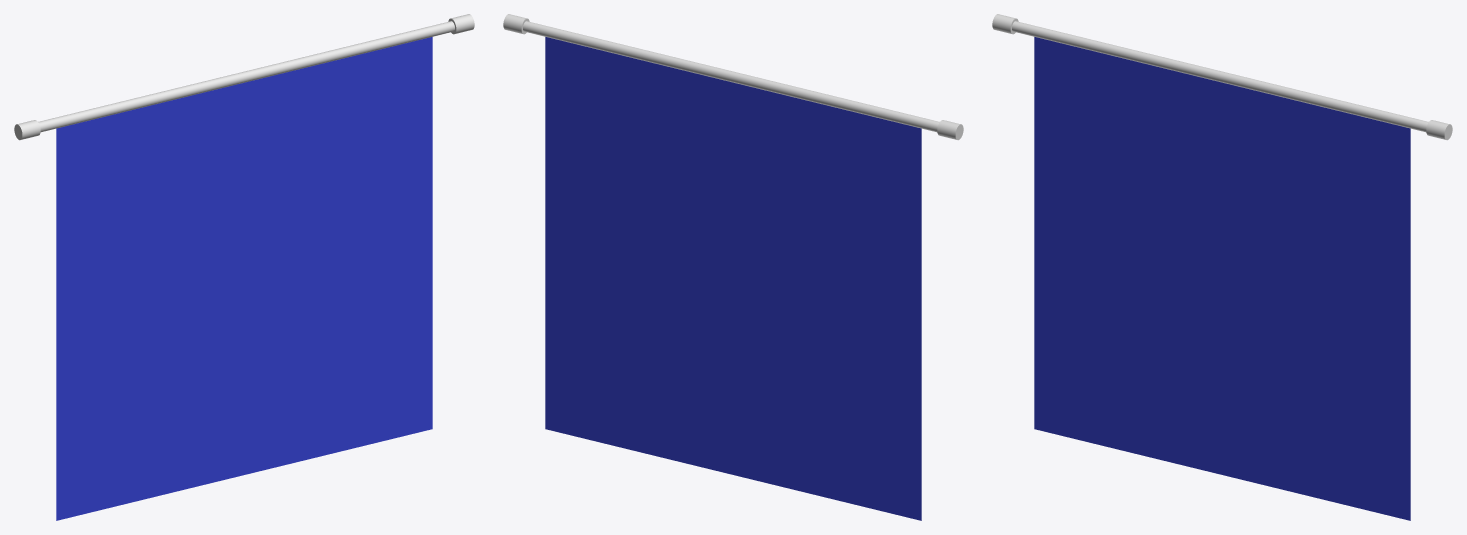
Rendered from Curtain.glb.
The picture shows the model from 3 angles, left to right: view 1: azimuth 30°, elevation 25°; view 2: azimuth 150°, elevation 25°; view 3: azimuth 330°, elevation 25°; orthographic projection.
Visible parts, largest first — view 1: CurtainSimulated, CurtainBar; view 2: CurtainSimulated, CurtainBar; view 3: CurtainSimulated, CurtainBar.
Boxes of the visible parts, x1,y1,x2,y2 form: CurtainSimulated: [56, 37, 432, 520]; CurtainBar: [14, 14, 474, 140]; CurtainSimulated: [545, 37, 921, 520]; CurtainBar: [503, 14, 963, 140]; CurtainSimulated: [1034, 37, 1410, 520]; CurtainBar: [992, 14, 1452, 140].
Size of the model in its own units: 2.4 by 2.06 by 0.075.
